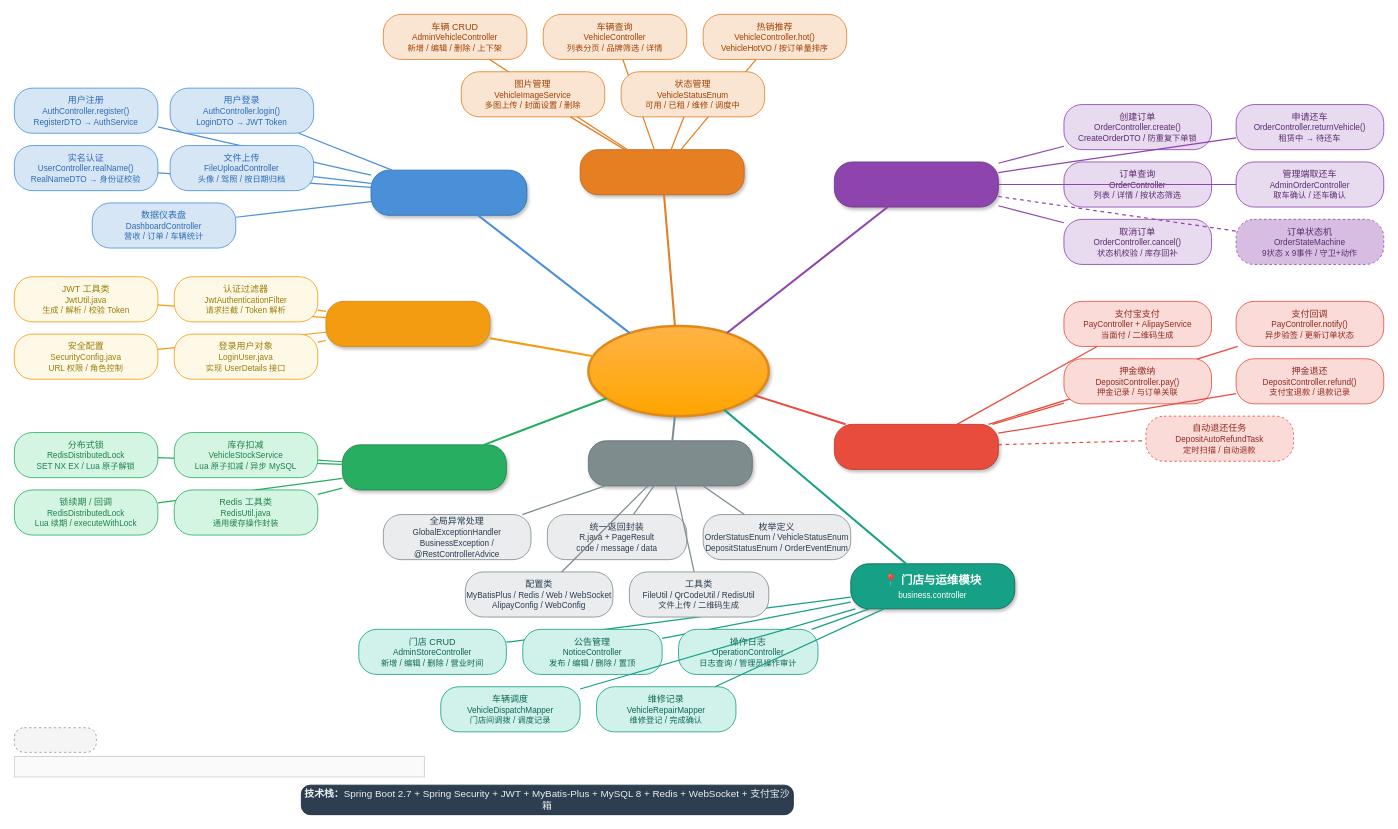
The diagram is 1398 pixels wide and 829 high, and some of its shapes have lost their labels. The centre of each missing label's shape, as x and y in pixels:
"com.evrental.system (认证) | com.evrental.business (业务) | com.evrental.common (公共)" belongs at (x=219, y=766).
"e租出行 新能源汽车租赁平台 后端功能模块" belongs at (x=678, y=372).
"⚙️ 公共基础模块 common + system.service" belongs at (x=670, y=464).
"后端包结构" belongs at (x=55, y=739).
"💳 支付与押金模块 business.controller + service" belongs at (x=916, y=447).
"📋 订单管理模块 business.controller + service" belongs at (x=916, y=185).
"🔄 Redis 高并发模块 common.lock + utils" belongs at (x=424, y=468).
"🔐 用户认证模块 system.controller" belongs at (x=449, y=193).
"🚗 车辆管理模块 business.controller + service" belongs at (x=662, y=173).
"🛡️ 安全与认证模块 common.security + config" belongs at (x=408, y=324).
